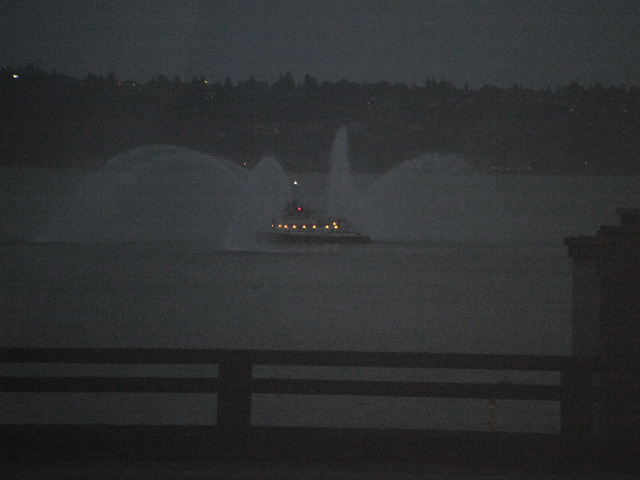tug_boat: (257, 177, 373, 249)
